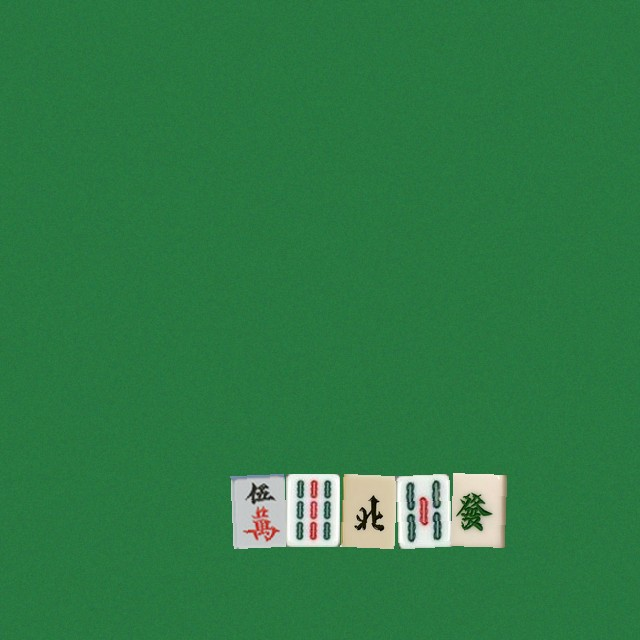tile: (230, 473, 284, 546), (285, 473, 339, 546), (340, 473, 394, 546), (395, 473, 449, 546), (450, 473, 504, 546)
